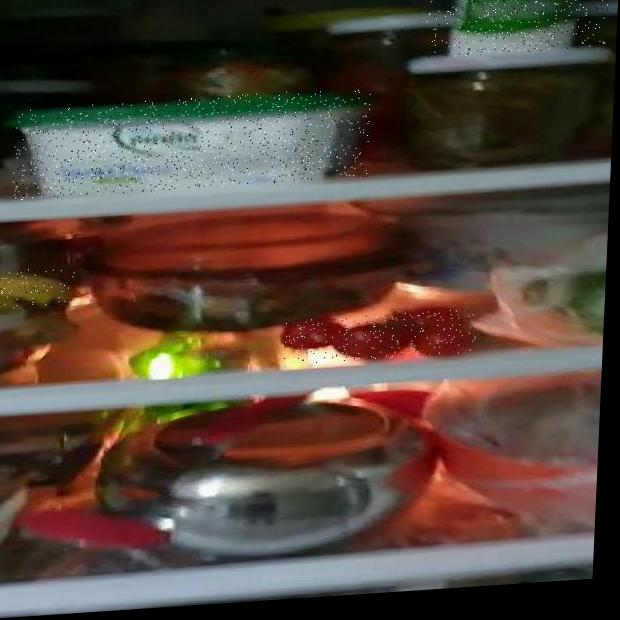banana: (0, 266, 76, 311)
cheese: (12, 86, 371, 201)
tomato: (283, 308, 477, 365)
yoghurt: (425, 0, 611, 58)
